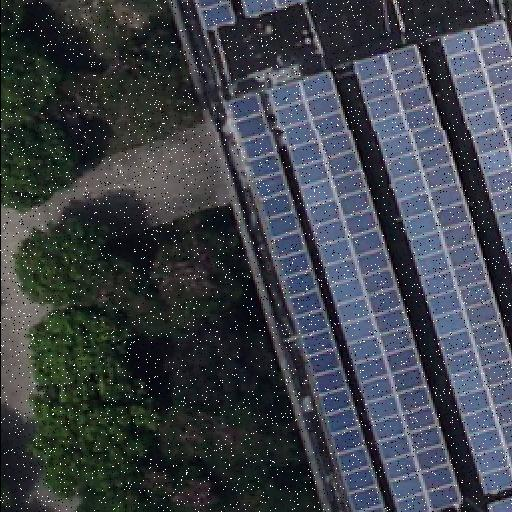solar-panel: (266, 70, 462, 512), (352, 42, 512, 498), (229, 89, 387, 511), (440, 20, 512, 272), (194, 0, 238, 36), (242, 0, 310, 20), (486, 497, 512, 511)
